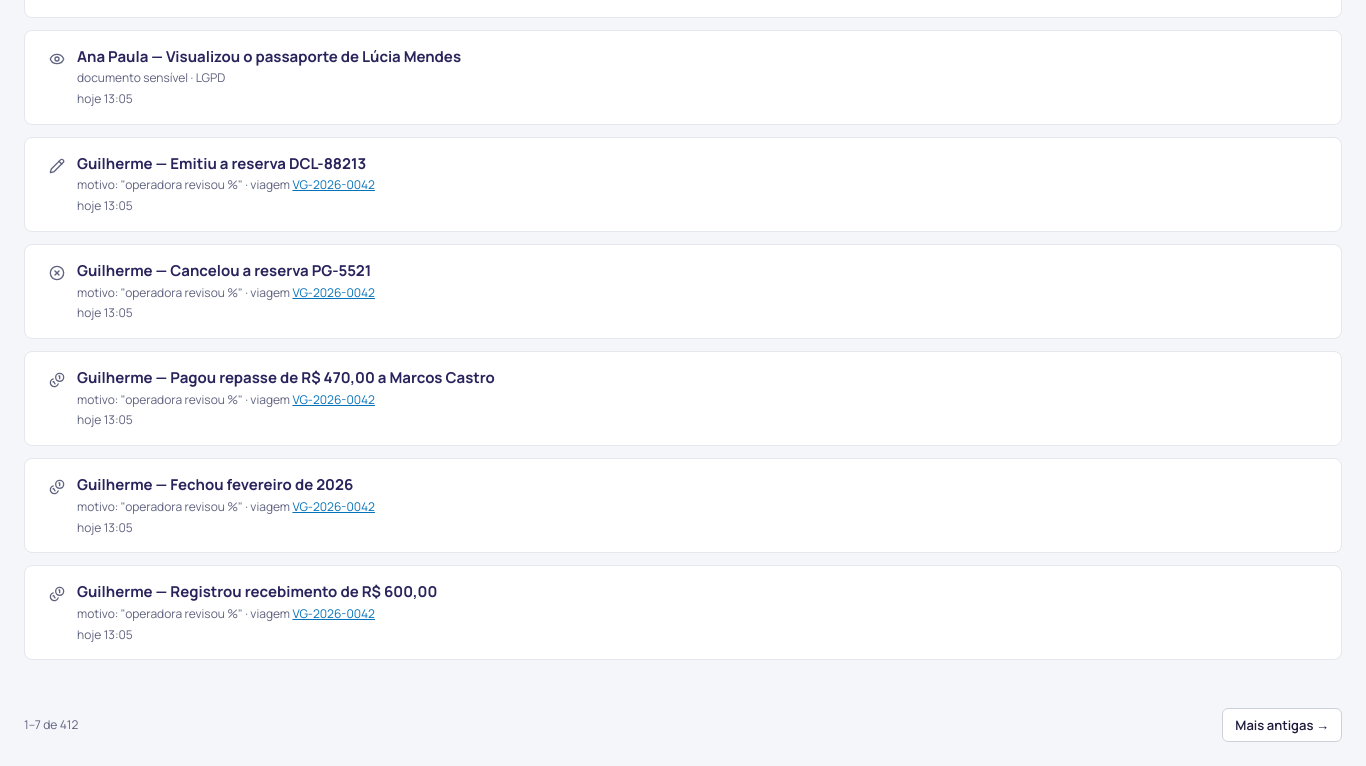
Test: Mais antigas pede ?antesDe=&antesDeId= e acrescenta itens
(page scrolled)
Expected: the text "1–7 de 412" is shown, [24, 717, 78, 734]
Click the button "Mais antigas →": (1282, 726) [1222, 708, 1342, 742]
(page scrolled)
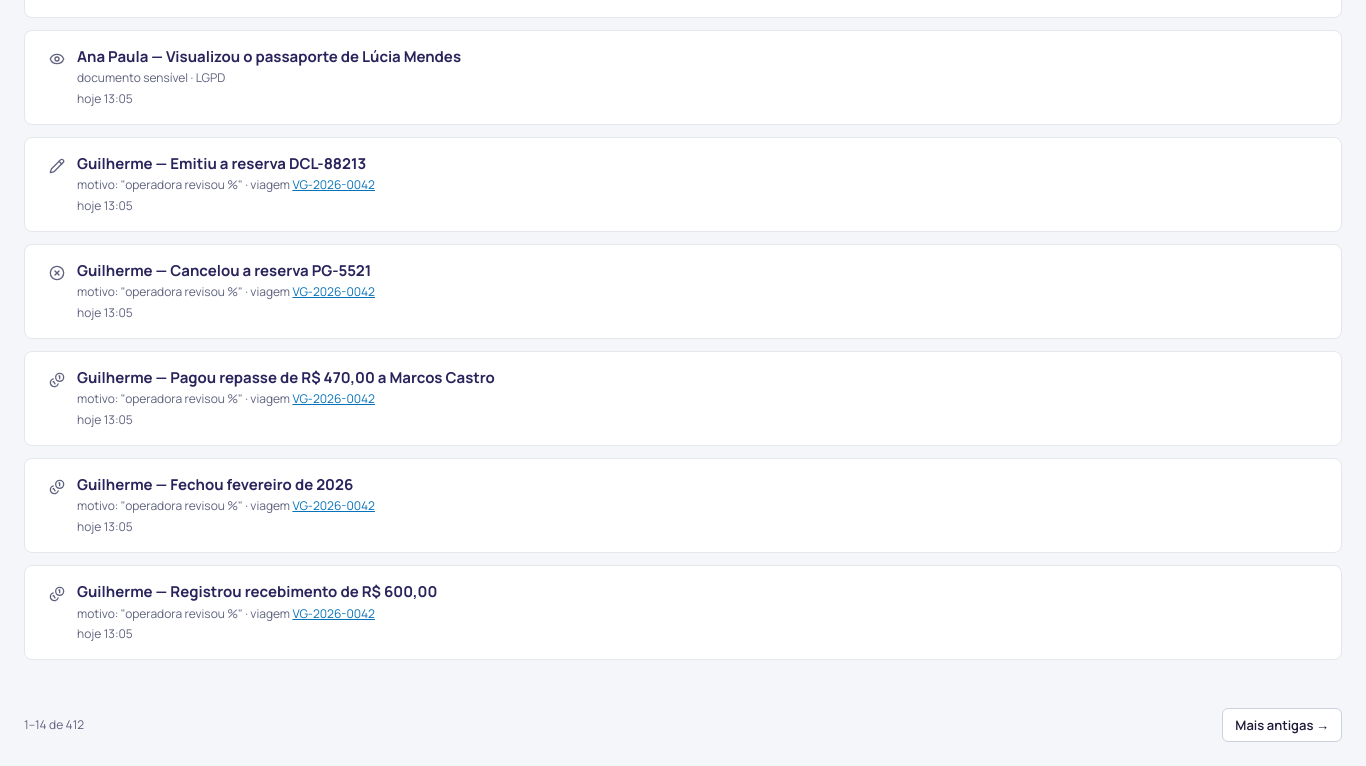
Expected: the text "1–14 de 412" is shown, [24, 717, 84, 734]
